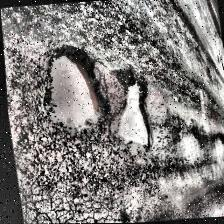pothole: (35, 46, 109, 136), (104, 79, 156, 151), (174, 127, 206, 165), (210, 134, 224, 162)
